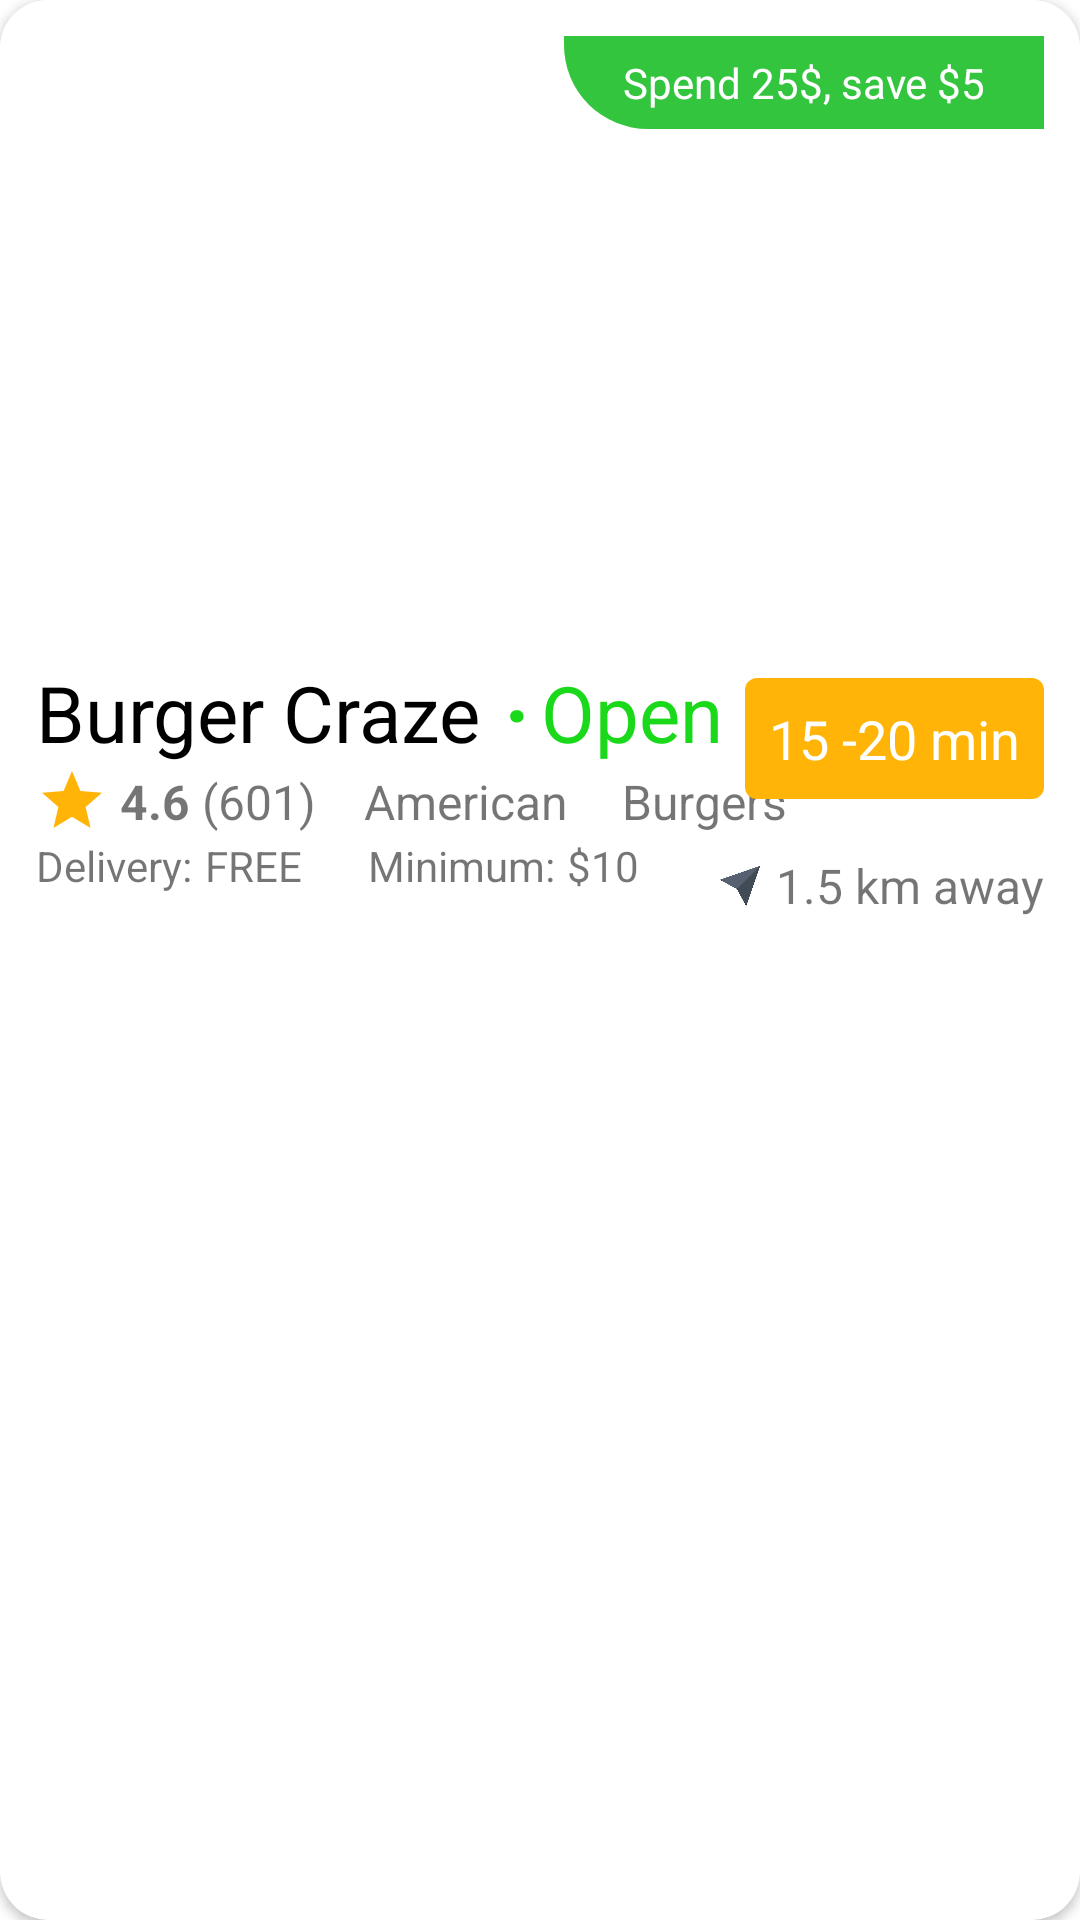

Named icons in this screenshot (1080w x 1920h) and their bounding boxes, bbox(x1, y1, x2, y2):
navigation: bbox(720, 866, 760, 906)
star: bbox(42, 771, 102, 828)
